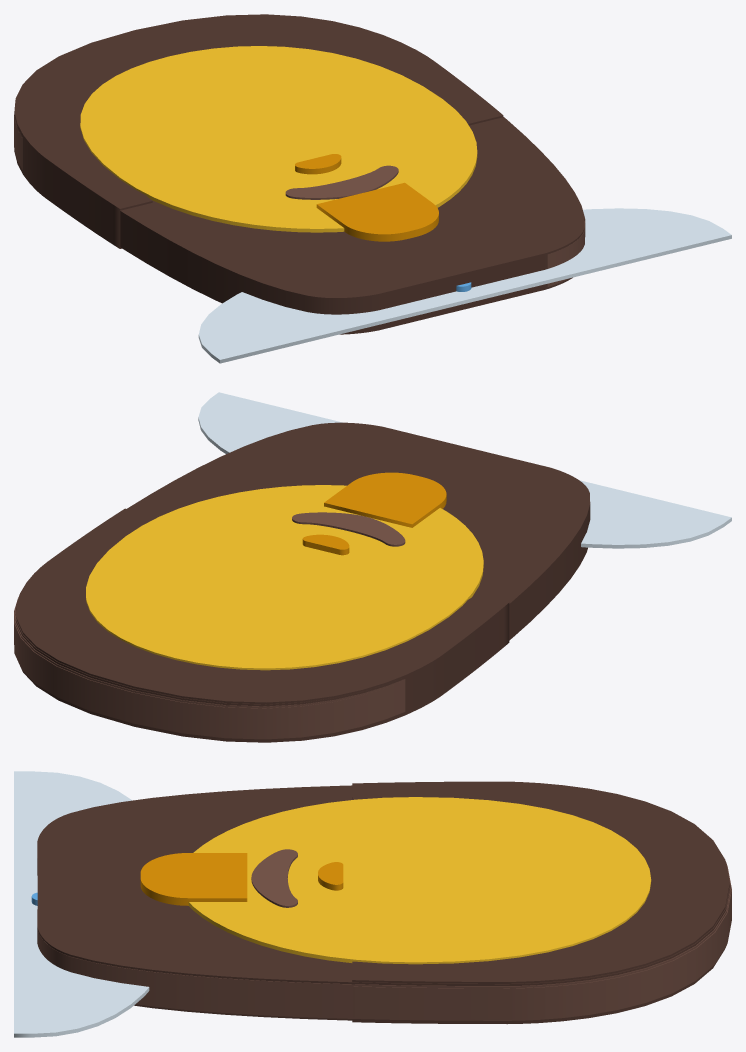
Rendered from emoji_u1f469_200d_1f4bc.glb.
3 renders of one model, top to bottom at view 1: azimuth 30°, elevation 25°; view 2: azimuth 150°, elevation 25°; view 3: azimuth 270°, elevation 25°, orthographic. The views are drawn at different scales.
Visible parts, largest first — view 1: emoji_u1f469_200d_1f4bc; view 2: emoji_u1f469_200d_1f4bc; view 3: emoji_u1f469_200d_1f4bc.
Boxes of the visible parts, bbox=[...] form: emoji_u1f469_200d_1f4bc: bbox=[14, 14, 731, 363]; emoji_u1f469_200d_1f4bc: bbox=[14, 392, 731, 742]; emoji_u1f469_200d_1f4bc: bbox=[14, 771, 731, 1037].
Size of the model in its own units: 0.0294 by 0.003 by 0.0339.
